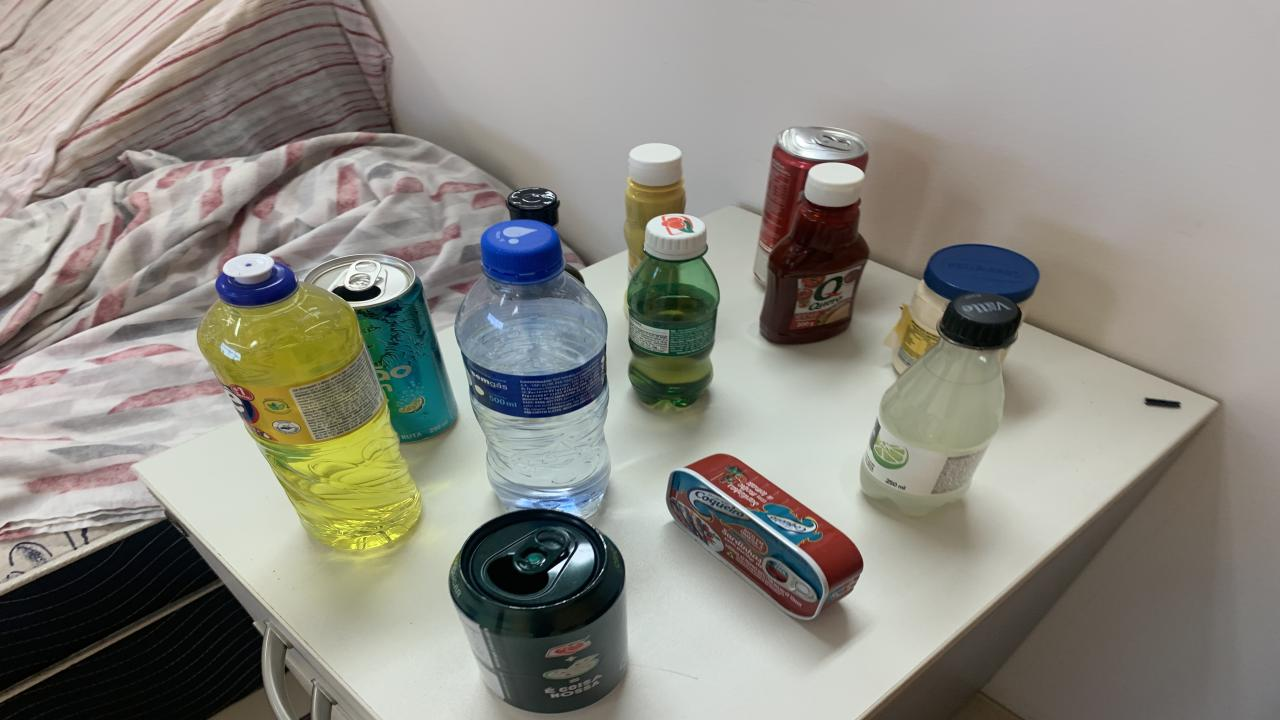Coke-Drinks: (890, 244, 1038, 373), (755, 128, 870, 285)
Detergent-Cleanup_Items: (198, 253, 420, 549)
Guarana-Drinks: (628, 212, 720, 407)
Guarana_Can-Drinks: (450, 510, 628, 712)
Ketchup-Pantry_Items: (760, 161, 870, 345)
Mayonnaise-Pantry_Items: (885, 281, 950, 373)
Mustard-Pantry_Items: (625, 142, 685, 274)
Soda-Drinks: (860, 292, 1020, 514)
Tea-Drinks: (305, 253, 458, 442)
Tuna_Can-Pantry_Items: (668, 454, 862, 621)
Water_Bottle-Drinks: (455, 219, 610, 518)
